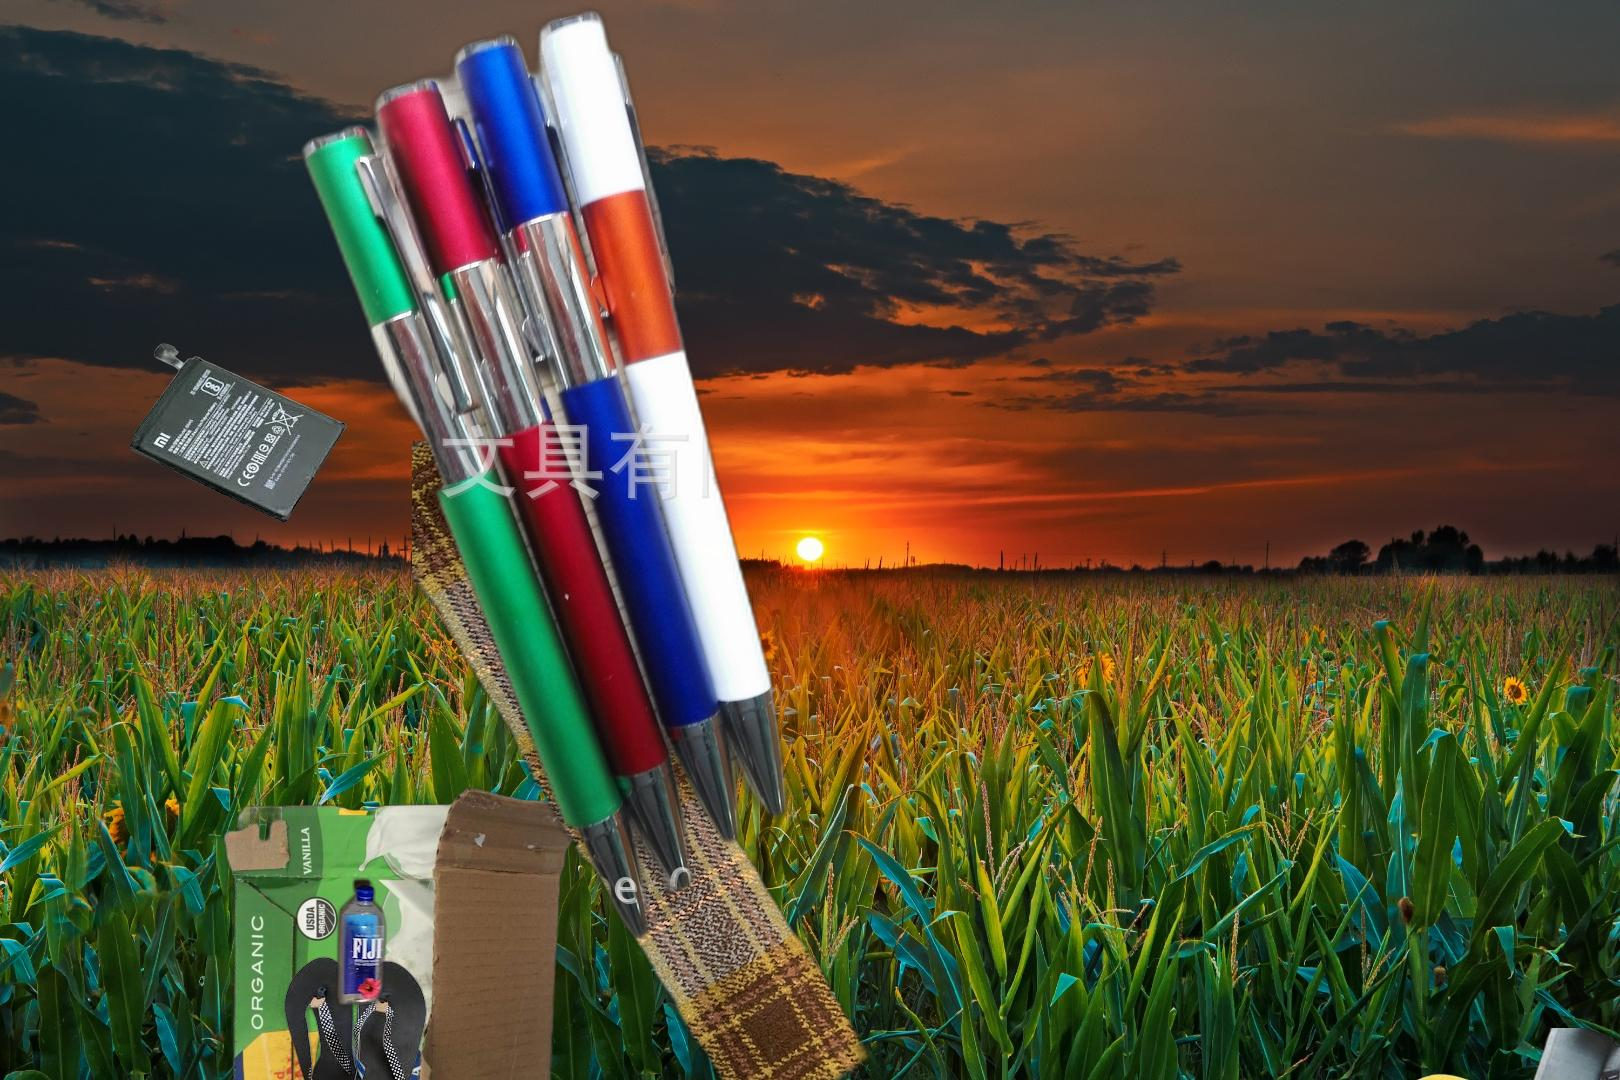battery: (127, 341, 350, 526)
biological: (1375, 1072, 1512, 1080)
metal-cans: (412, 441, 925, 1080)
paper: (1508, 1028, 1620, 1080)
penholder: (293, 2, 794, 946)
plastic-bottles: (333, 874, 391, 1019)
shoes: (282, 953, 429, 1080)
trashbox-cardboard: (219, 785, 627, 1080)
